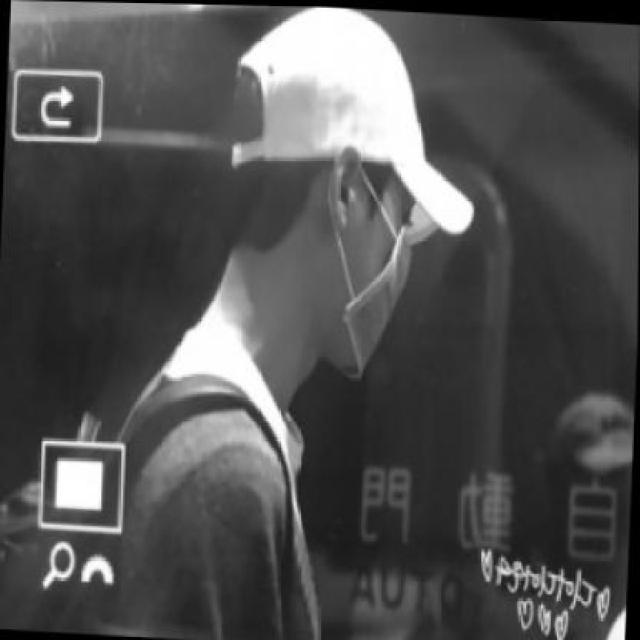hat: (222, 4, 488, 256)
